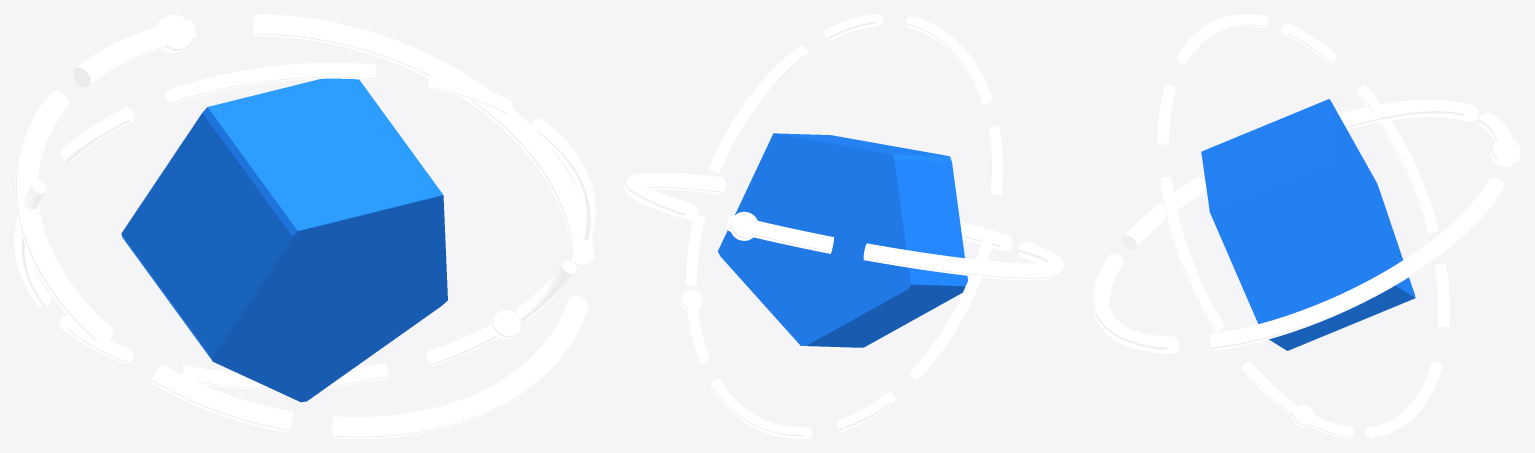
The model's file is pokestop_heart.glb.
The picture shows the model from 3 angles, left to right: view 1: azimuth 30°, elevation 25°; view 2: azimuth 150°, elevation 25°; view 3: azimuth 270°, elevation 25°; orthographic projection. The views are drawn at different scales.
Visible parts, largest first — view 1: Body, ArcA4, ArcA0, ArcA2, ArcB5, ArcA3, ArcA1, ArcB7, ArcA5, ArcB1, ArcB3, ArcB6 (+6 smaller); view 2: Body, ArcA2, ArcB7, ArcB3, ArcA0, ArcA1, ArcB5, ArcB1, ArcA5, ArcB8, ArcB4, ArcA4 (+5 smaller); view 3: Body, ArcA0, ArcA4, ArcA2, ArcB7, ArcB3, ArcA5, ArcA3, ArcB1, ArcB5, ArcB2, ArcB8 (+6 smaller).
Boxes of the visible parts, x1=… form: Body: x1=121, y1=78, x2=447, y2=402; ArcA4: x1=332, y1=295, x2=588, y2=438; ArcA0: x1=253, y1=14, x2=559, y2=172; ArcA2: x1=15, y1=91, x2=113, y2=345; ArcB5: x1=165, y1=62, x2=375, y2=105; ArcA3: x1=152, y1=364, x2=293, y2=432; ArcA1: x1=73, y1=19, x2=196, y2=87; ArcB7: x1=530, y1=118, x2=595, y2=240; ArcA5: x1=540, y1=158, x2=594, y2=264; ArcB1: x1=177, y1=363, x2=388, y2=389; ArcB3: x1=14, y1=180, x2=51, y2=307; ArcB6: x1=428, y1=73, x2=512, y2=114; Body: x1=718, y1=133, x2=967, y2=347; ArcA2: x1=863, y1=243, x2=1058, y2=280; ArcB7: x1=708, y1=45, x2=807, y2=173; ArcB3: x1=909, y1=237, x2=993, y2=380; ArcA0: x1=624, y1=172, x2=697, y2=220; ArcA1: x1=727, y1=215, x2=833, y2=253; ArcB5: x1=906, y1=16, x2=992, y2=103; ArcB1: x1=710, y1=379, x2=811, y2=438; ArcA5: x1=659, y1=172, x2=725, y2=193; ArcB8: x1=685, y1=214, x2=704, y2=285; ArcB4: x1=988, y1=126, x2=1002, y2=195; ArcA4: x1=960, y1=221, x2=1012, y2=251; Body: x1=1201, y1=99, x2=1415, y2=350; ArcA0: x1=1300, y1=177, x2=1503, y2=326; ArcA4: x1=1092, y1=253, x2=1179, y2=353; ArcA2: x1=1338, y1=99, x2=1478, y2=129; ArcB7: x1=1159, y1=176, x2=1224, y2=332; ArcB3: x1=1356, y1=85, x2=1438, y2=233; ArcA5: x1=1210, y1=311, x2=1305, y2=350; ArcA3: x1=1122, y1=176, x2=1206, y2=249; ArcB1: x1=1365, y1=361, x2=1442, y2=438; ArcB5: x1=1176, y1=14, x2=1268, y2=63; ArcB2: x1=1434, y1=263, x2=1449, y2=332; ArcB8: x1=1241, y1=361, x2=1295, y2=413.
Size of what is drawn, in the model's own units: 5.2 by 4.39 by 4.9.
